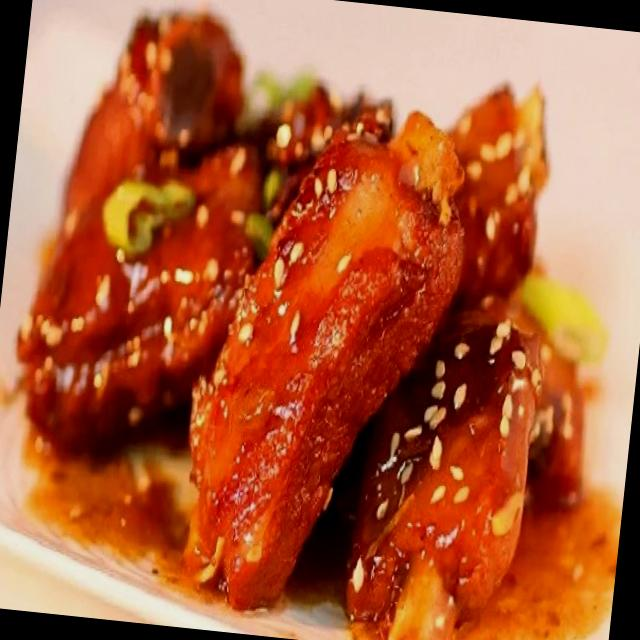suon xao: (18, 13, 543, 630)
